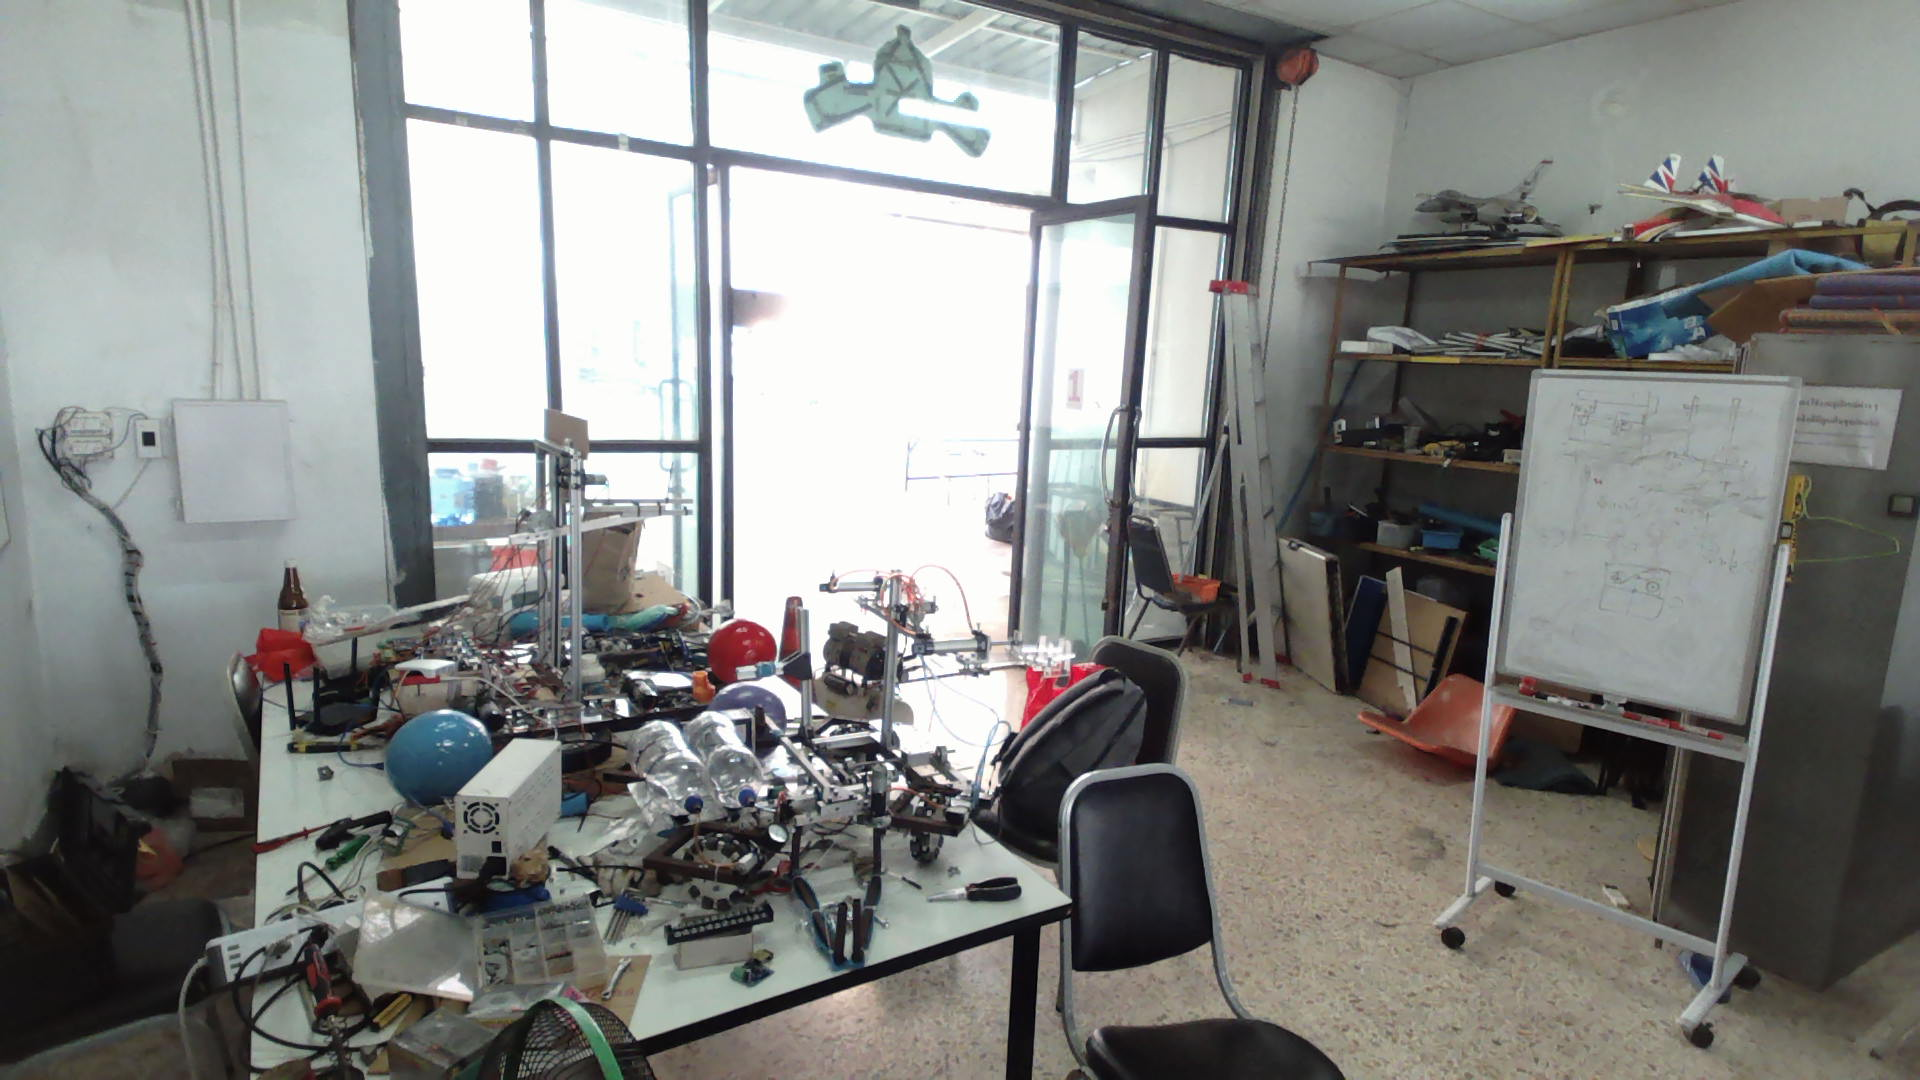Blue ball: (382, 708, 495, 799)
Red ball: (705, 617, 779, 671)
